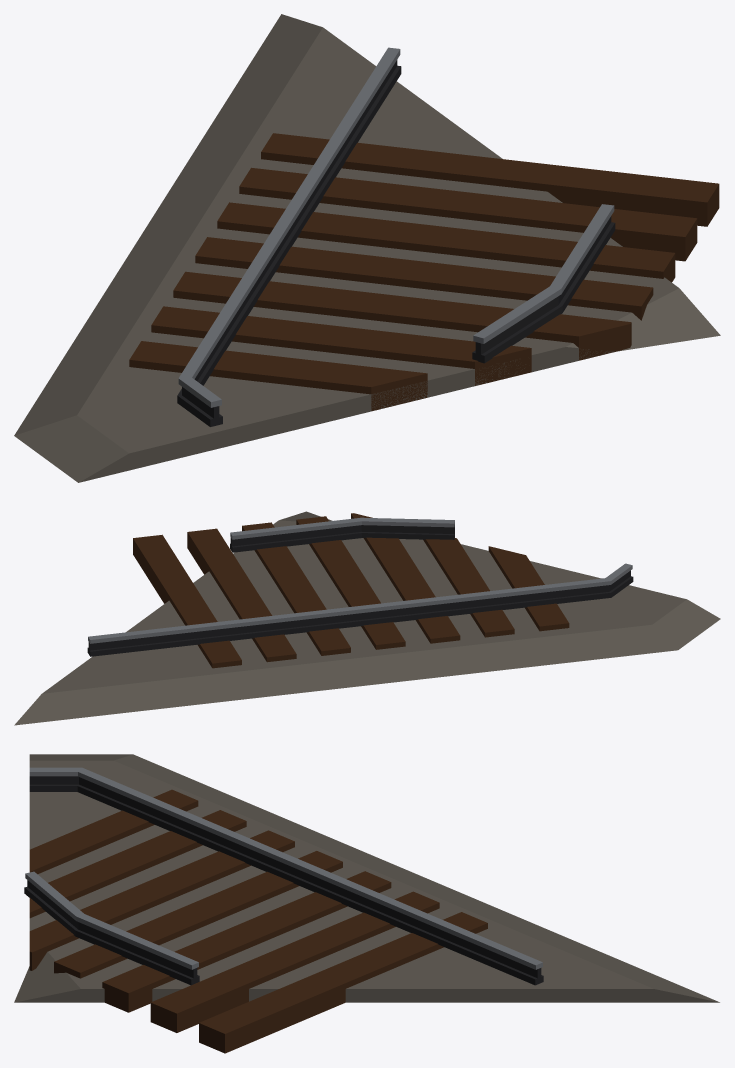
Rendered from SM_Rail_Diagonal_Join_A.obj.
3 renders of one model, top to bottom at view 1: azimuth 30°, elevation 25°; view 2: azimuth 150°, elevation 25°; view 3: azimuth 270°, elevation 25°, orthographic. The views are drawn at different scales.
Parts seen in each view (by area): view 1: SM_Rail_Diagonal_Join_A; view 2: SM_Rail_Diagonal_Join_A; view 3: SM_Rail_Diagonal_Join_A.
Boxes of the visible parts, box(x1,y1,x2,y2) form: SM_Rail_Diagonal_Join_A: box(14, 14, 720, 482); SM_Rail_Diagonal_Join_A: box(14, 511, 720, 725); SM_Rail_Diagonal_Join_A: box(14, 754, 719, 1053).
Bounding box in the file's own units: 4.19 × 0.254 × 4.19.
